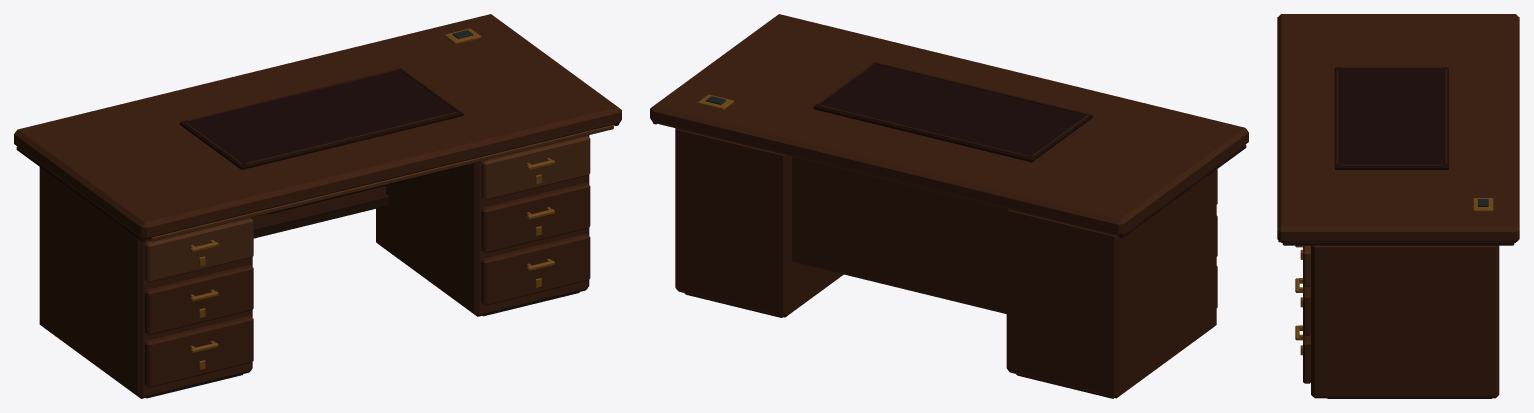
File: 0-20261016-1900-ev049-r09-cfo-execdesk.fbx
The picture shows the model from 3 angles, left to right: view 1: azimuth 30°, elevation 25°; view 2: azimuth 150°, elevation 25°; view 3: azimuth 270°, elevation 25°; orthographic projection. The views are drawn at different scales.
Parts seen in each view (by area): view 1: SW_Exec_ExecDesk; view 2: SW_Exec_ExecDesk; view 3: SW_Exec_ExecDesk.
Boxes of the visible parts, x1=… form: SW_Exec_ExecDesk: x1=14, y1=14, x2=621, y2=398; SW_Exec_ExecDesk: x1=650, y1=14, x2=1248, y2=398; SW_Exec_ExecDesk: x1=1277, y1=14, x2=1519, y2=398.
Bounding box in the file's own units: 190 × 76.05 × 90.
